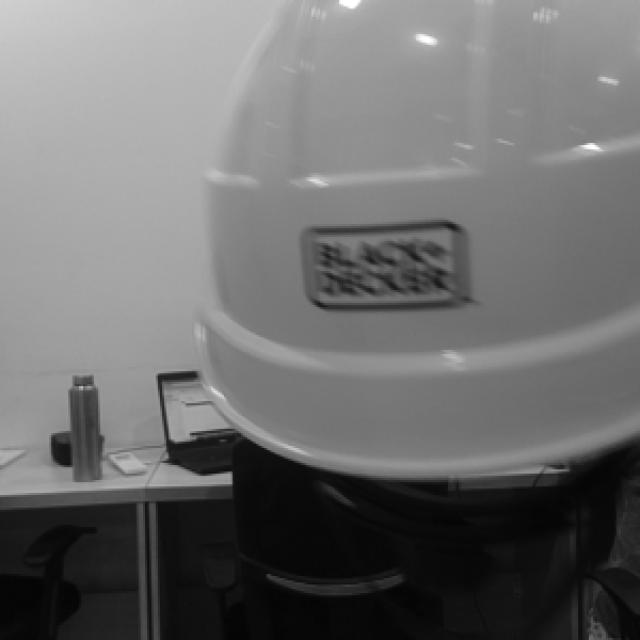safety_helmet: (198, 1, 640, 479)
